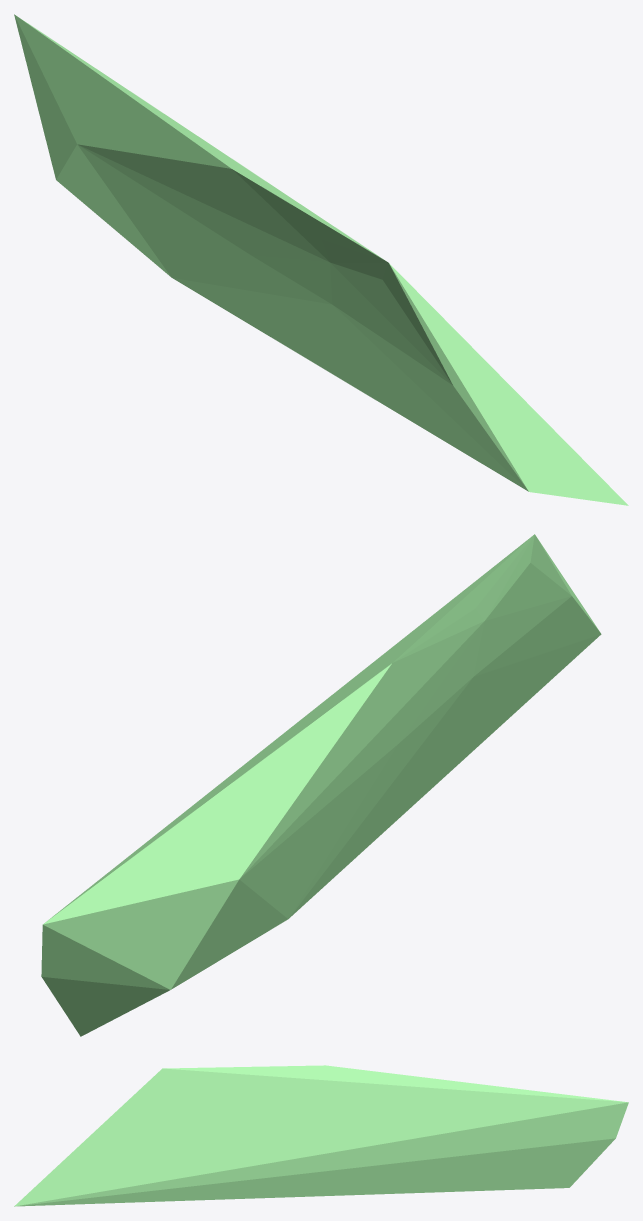
Rendered from Panda_link5_respondable_coll_4.dae.
3 renders of one model, top to bottom at view 1: azimuth 30°, elevation 25°; view 2: azimuth 150°, elevation 25°; view 3: azimuth 270°, elevation 25°, orthographic. The views are drawn at different scales.
Parts seen in each view (by area): view 1: Node_0x7f9e8a1bb9a0; view 2: Node_0x7f9e8a1bb9a0; view 3: Node_0x7f9e8a1bb9a0.
Boxes of the visible parts, bbox=[...] form: Node_0x7f9e8a1bb9a0: bbox=[14, 14, 628, 505]; Node_0x7f9e8a1bb9a0: bbox=[41, 534, 601, 1036]; Node_0x7f9e8a1bb9a0: bbox=[14, 1065, 628, 1206].
Bounding box in the file's own units: 0.026 × 0.0315 × 0.1626.
